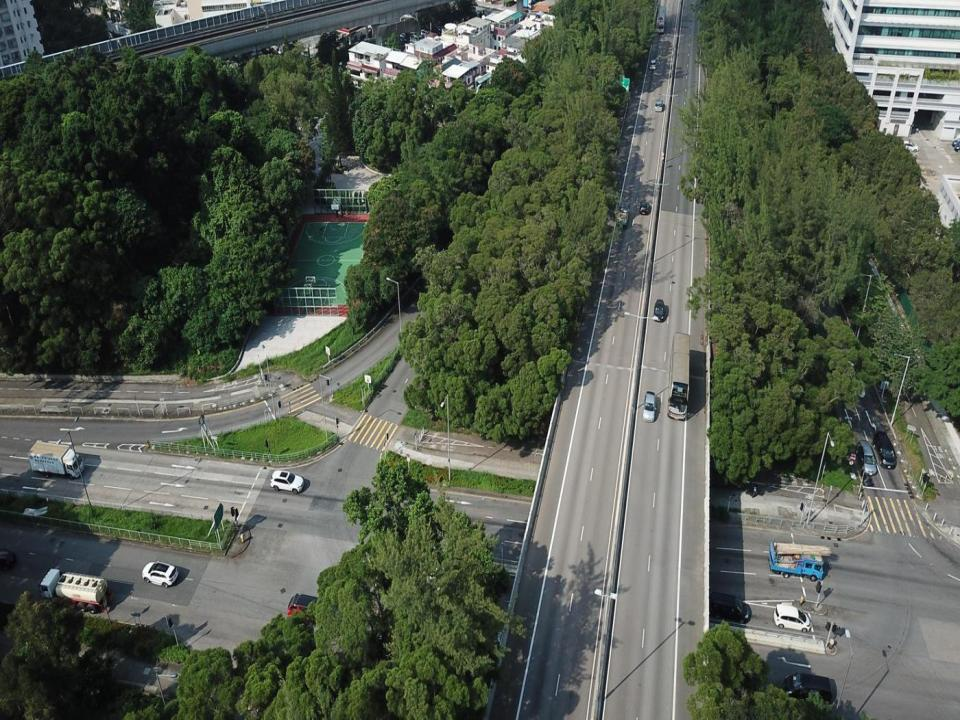bus: (667, 333, 690, 422)
car: (287, 593, 333, 626), (710, 591, 750, 624), (142, 560, 180, 589), (774, 604, 810, 633), (872, 431, 897, 470), (854, 440, 877, 476), (270, 470, 304, 494), (642, 390, 657, 423), (653, 298, 664, 322), (638, 201, 650, 215), (654, 98, 664, 112), (649, 58, 657, 70)
truck: (37, 567, 114, 615), (768, 538, 824, 582), (27, 441, 86, 481), (616, 202, 631, 228), (655, 4, 666, 34)
van: (783, 672, 832, 707)
